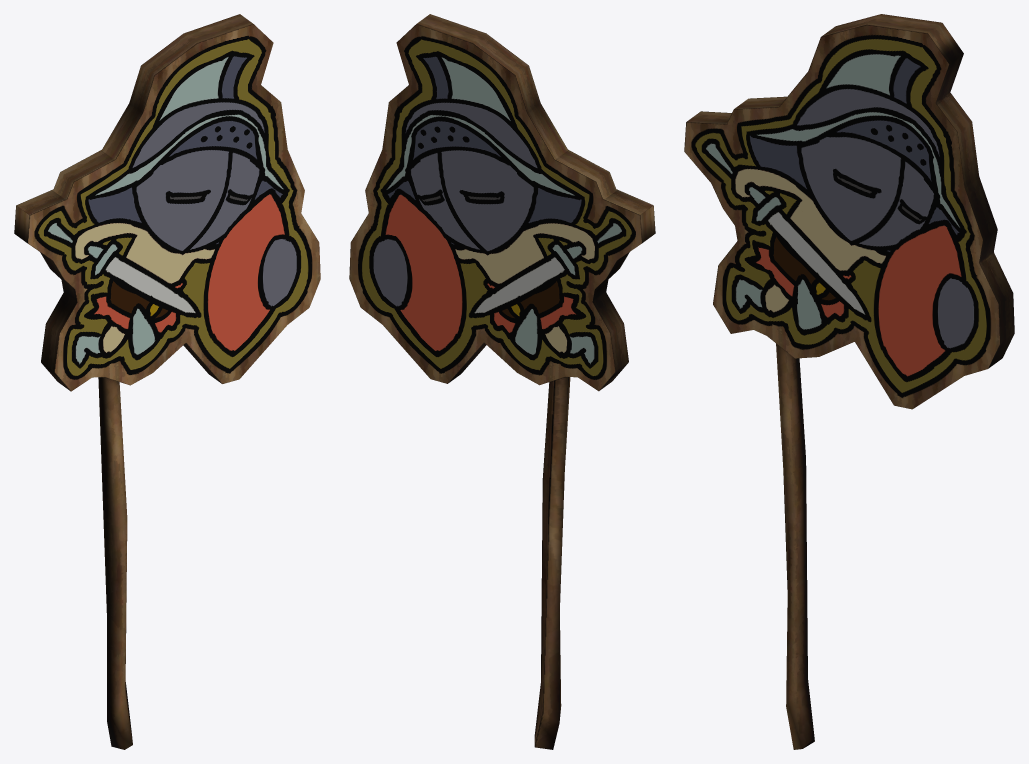
Rendered from unit_run_M.fbx.
3 renders of one model, left to right at view 1: azimuth 30°, elevation 25°; view 2: azimuth 150°, elevation 25°; view 3: azimuth 330°, elevation 25°, orthographic. The views are drawn at different scales.
Parts seen in each view (by area): view 1: Pancarte_unit_modé:Mesh; view 2: Pancarte_unit_modé:Mesh; view 3: Pancarte_unit_modé:Mesh.
Part boxes in pixels (left/top/right/bottom): Pancarte_unit_modé:Mesh: left=14, top=14, right=320, bottom=749; Pancarte_unit_modé:Mesh: left=349, top=14, right=655, bottom=749; Pancarte_unit_modé:Mesh: left=684, top=14, right=1014, bottom=749.
Bounding box in the file's own units: 10.34 × 23.52 × 0.9677.
